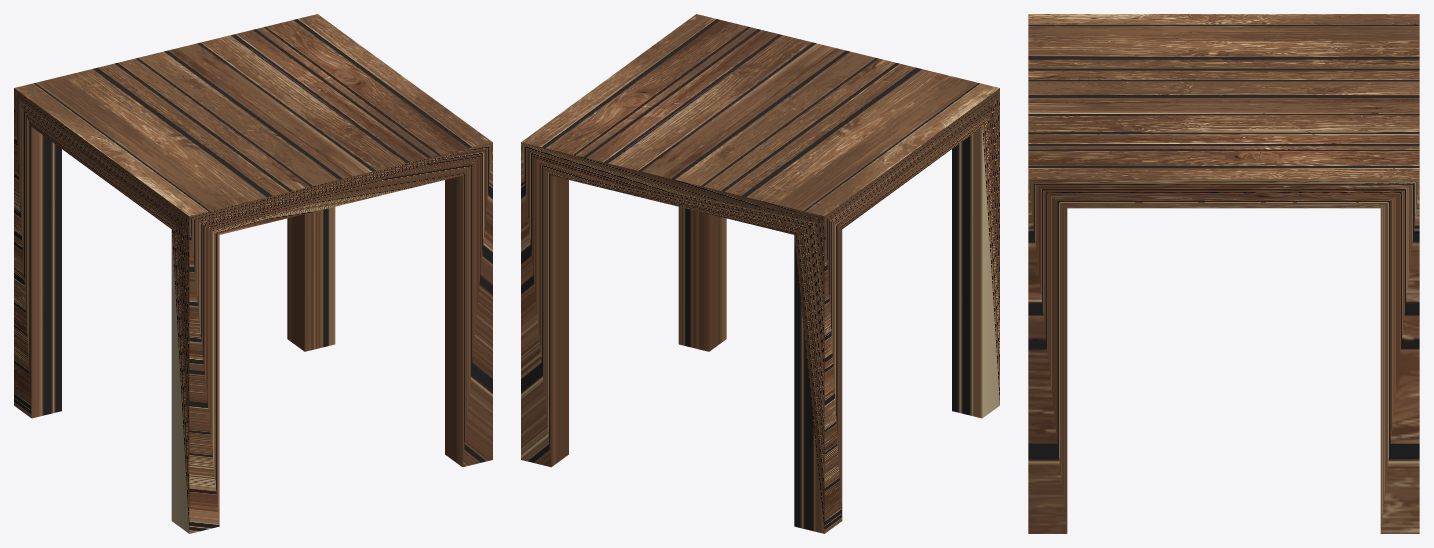
File: foundation.glb
The picture shows the model from 3 angles, left to right: view 1: azimuth 30°, elevation 25°; view 2: azimuth 150°, elevation 25°; view 3: azimuth 270°, elevation 25°; orthographic projection. The views are drawn at different scales.
Visible parts, largest first — view 1: Foundation; view 2: Foundation; view 3: Foundation.
Boxes of the visible parts, x1=… form: Foundation: x1=14, y1=14, x2=492, y2=533; Foundation: x1=521, y1=14, x2=999, y2=533; Foundation: x1=1028, y1=14, x2=1419, y2=533.
Size of the model in its own units: 2 by 2 by 2.
Materials: 1 (1 with a texture image).
